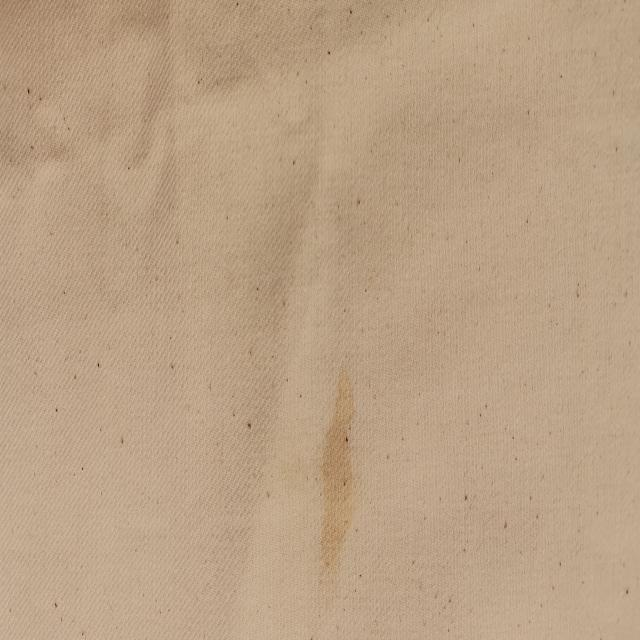taaaches: (301, 328, 399, 619)
